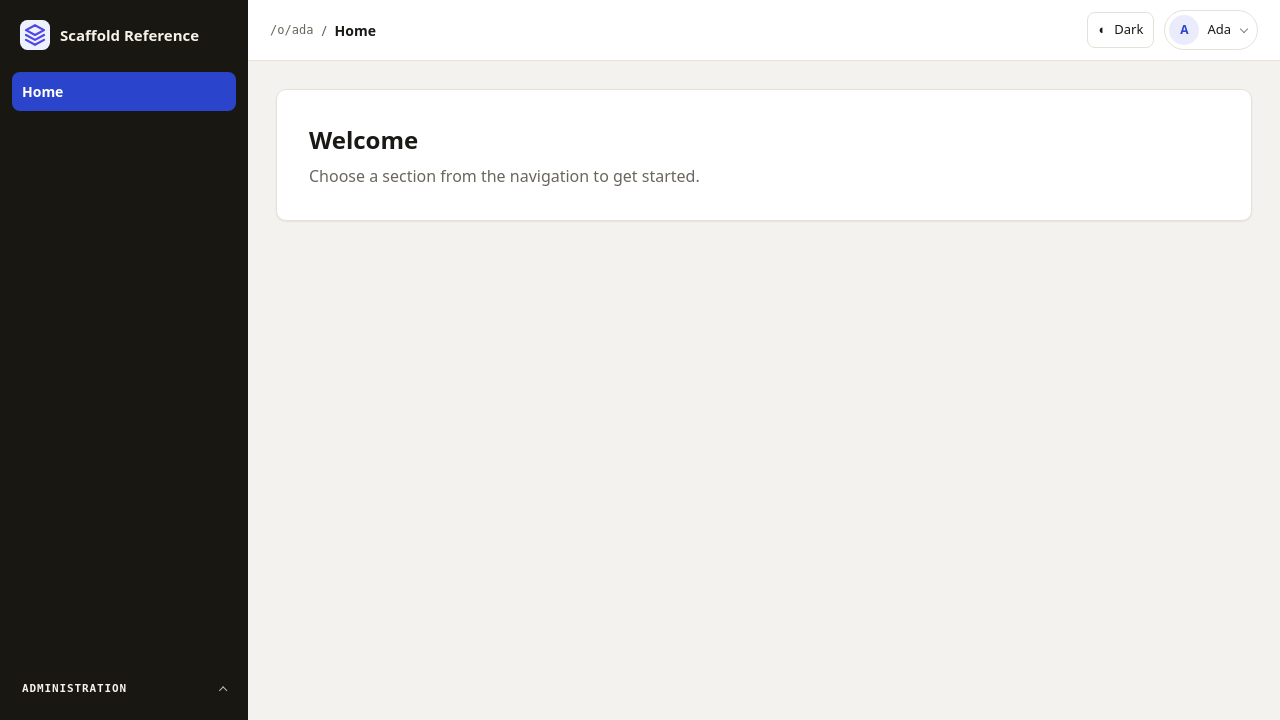
org shell navigation for a personal org › hides org-admin links for a personal org even when the owner holds every permission
This screenshot has width=1280, height=720.
Click the button "Administration".
click(124, 689)  # box top-left (12, 672), bottom-right (236, 706)
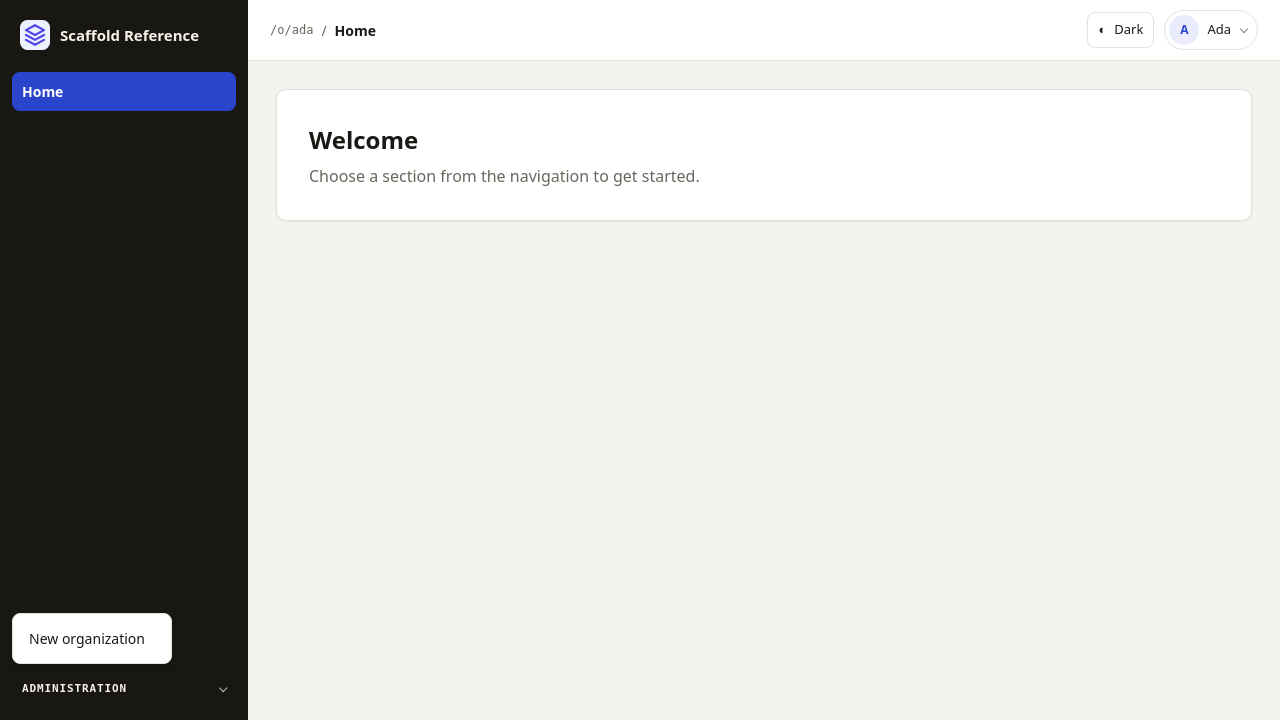
Check: the link "New organization" is shown, box top-left (29, 629), bottom-right (145, 648)
